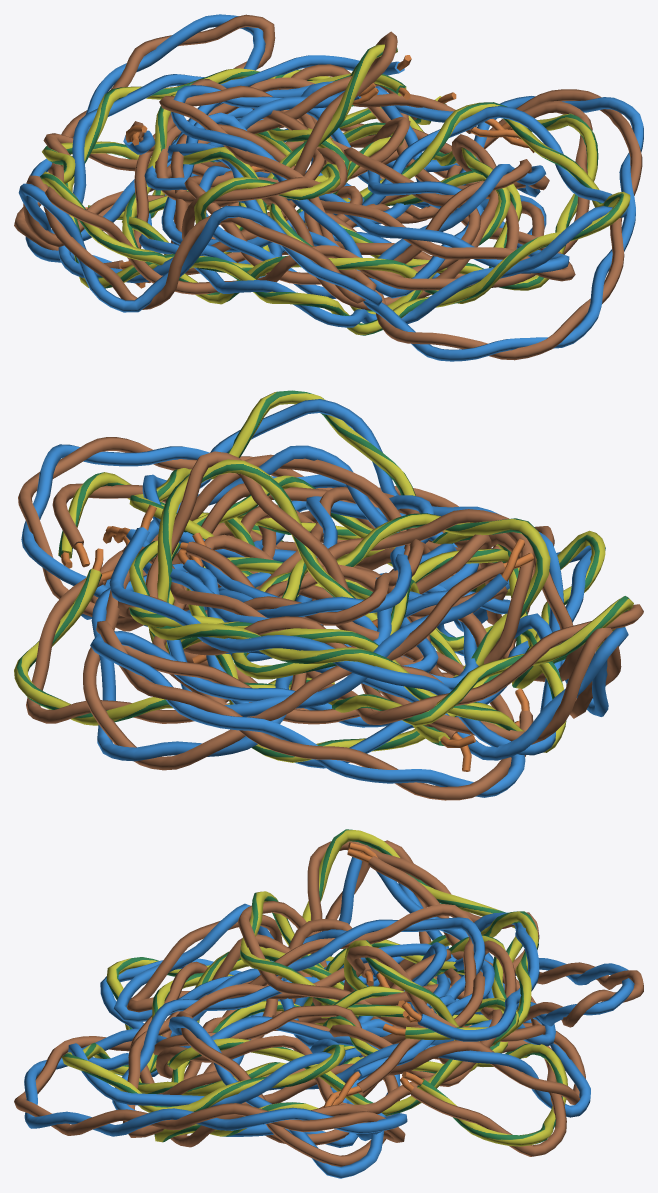
Rendered from wire.glb.
3 views of the same model, one above another, from view 1: azimuth 30°, elevation 25°; view 2: azimuth 150°, elevation 25°; view 3: azimuth 270°, elevation 25° (orthographic). The views are drawn at different scales.
Visible parts, largest first — view 1: wires_insulation_wire_line_0, wires_insulation_wire_neutral_0, wires_insulation_wire_ground_0, wires_copper_copper_0; view 2: wires_insulation_wire_line_0, wires_insulation_wire_neutral_0, wires_insulation_wire_ground_0, wires_copper_copper_0; view 3: wires_insulation_wire_line_0, wires_insulation_wire_neutral_0, wires_insulation_wire_ground_0, wires_copper_copper_0.
Part boxes in pixels (box(x1,y1,x2,y2)): wires_insulation_wire_line_0: box(14, 14, 642, 360); wires_insulation_wire_neutral_0: box(18, 14, 643, 361); wires_insulation_wire_ground_0: box(40, 44, 630, 335); wires_copper_copper_0: box(85, 55, 534, 288); wires_insulation_wire_line_0: box(18, 437, 643, 800); wires_insulation_wire_neutral_0: box(21, 399, 628, 797); wires_insulation_wire_ground_0: box(14, 390, 633, 762); wires_copper_copper_0: box(61, 505, 533, 771); wires_insulation_wire_line_0: box(14, 840, 643, 1166); wires_insulation_wire_neutral_0: box(24, 841, 634, 1178); wires_insulation_wire_ground_0: box(61, 829, 567, 1146); wires_copper_copper_0: box(319, 842, 472, 1108).
Size of the model in its own units: 0.1664 by 0.0527 by 0.1679.
Materials: 4 (4 with a texture image).
